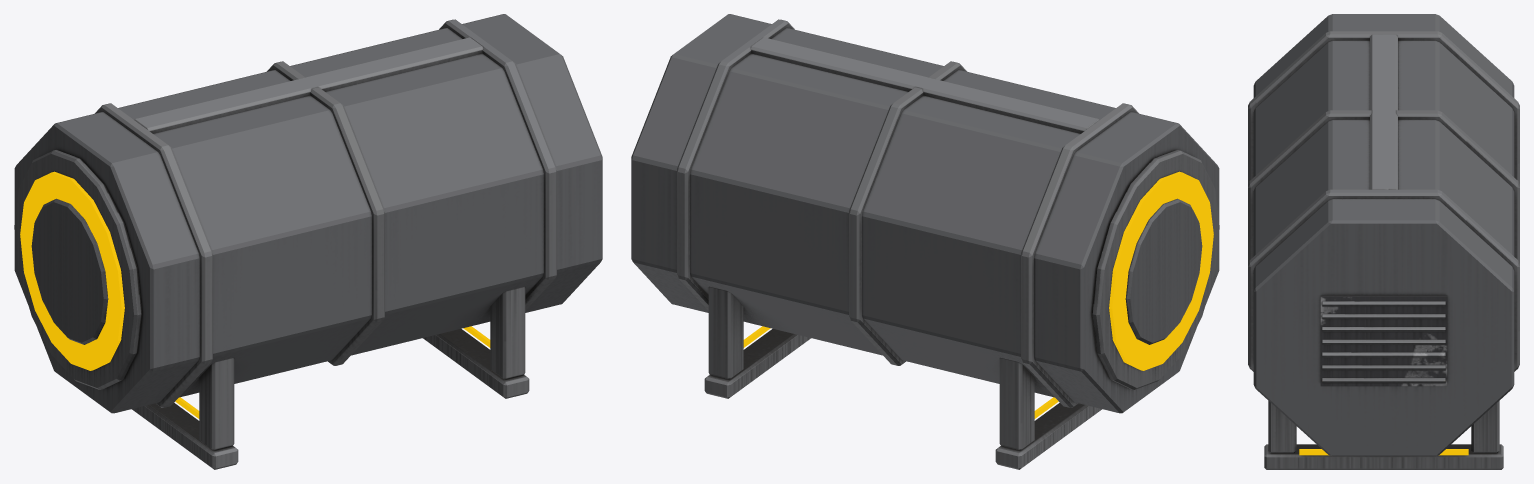
The model's file is nodexeus-set-mod-tank.glb.
3 views of the same model, side by side, from view 1: azimuth 30°, elevation 25°; view 2: azimuth 150°, elevation 25°; view 3: azimuth 270°, elevation 25° (orthographic). The views are drawn at different scales.
Parts seen in each view (by area): view 1: set-mod-tank; view 2: set-mod-tank; view 3: set-mod-tank.
Boxes of the visible parts, x1,y1,x2,y2 form: set-mod-tank: (14,14,602,469); set-mod-tank: (631,14,1219,469); set-mod-tank: (1248,14,1519,469).
Bounding box in the file's own units: 2.94 × 1.79 × 1.54.
1 material, 1 textured.
